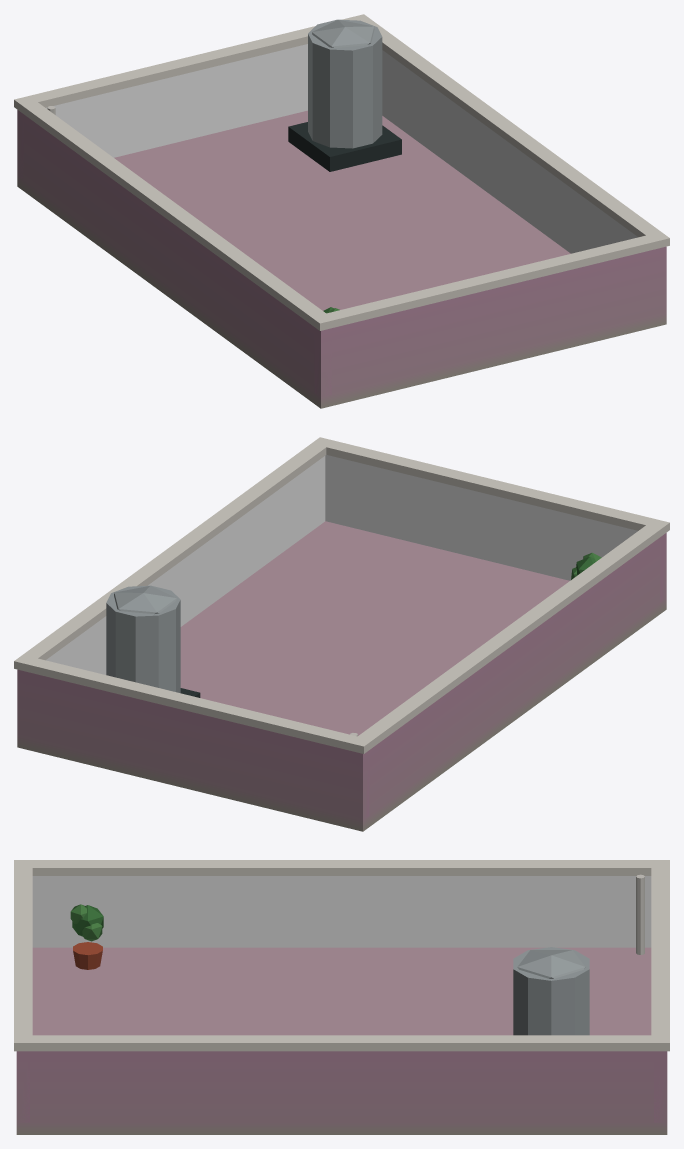
File: mai_san_thuong_48.glb
3 views of the same model, one above another, from view 1: azimuth 30°, elevation 25°; view 2: azimuth 150°, elevation 25°; view 3: azimuth 270°, elevation 25° (orthographic). The views are drawn at different scales.
Visible parts, largest first — view 1: mai_san_thuong_48; view 2: mai_san_thuong_48; view 3: mai_san_thuong_48.
Boxes of the visible parts, bbox=[...] form: mai_san_thuong_48: bbox=[14, 14, 669, 408]; mai_san_thuong_48: bbox=[14, 437, 669, 831]; mai_san_thuong_48: bbox=[14, 860, 669, 1134].
Bounding box in the file's own units: 4.86 × 1.76 × 7.36.
